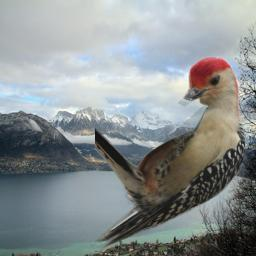Woodpecker: (95, 56, 245, 255)
